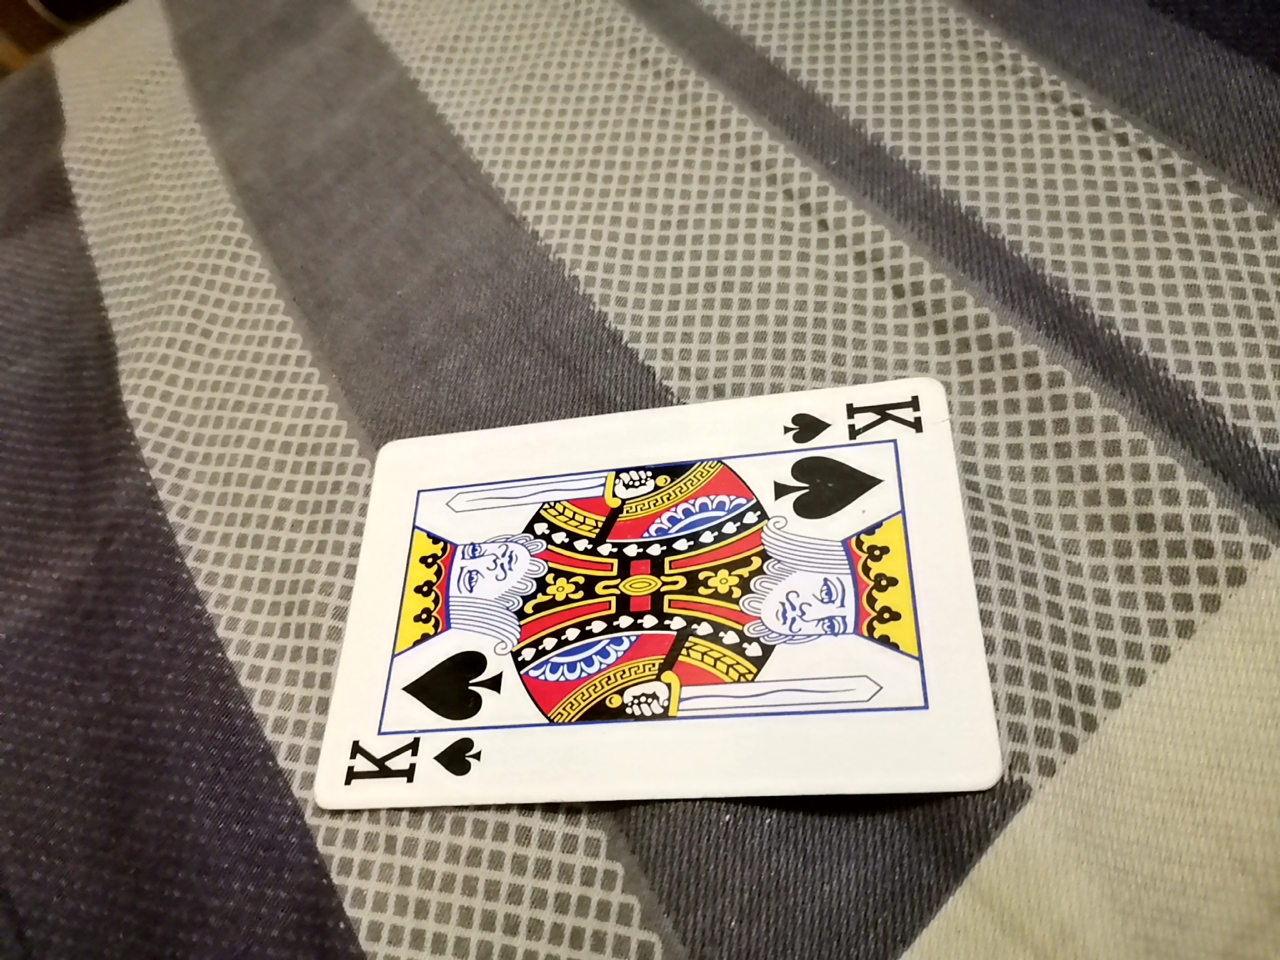ht k: (328, 365, 975, 809)
